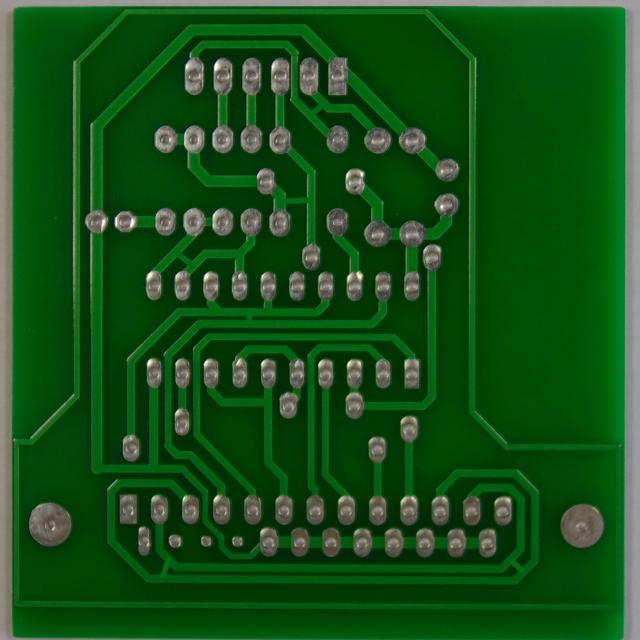short: (500, 550, 536, 585), (272, 189, 321, 213), (151, 550, 183, 584), (165, 246, 197, 274), (301, 99, 332, 120), (237, 305, 259, 330)
